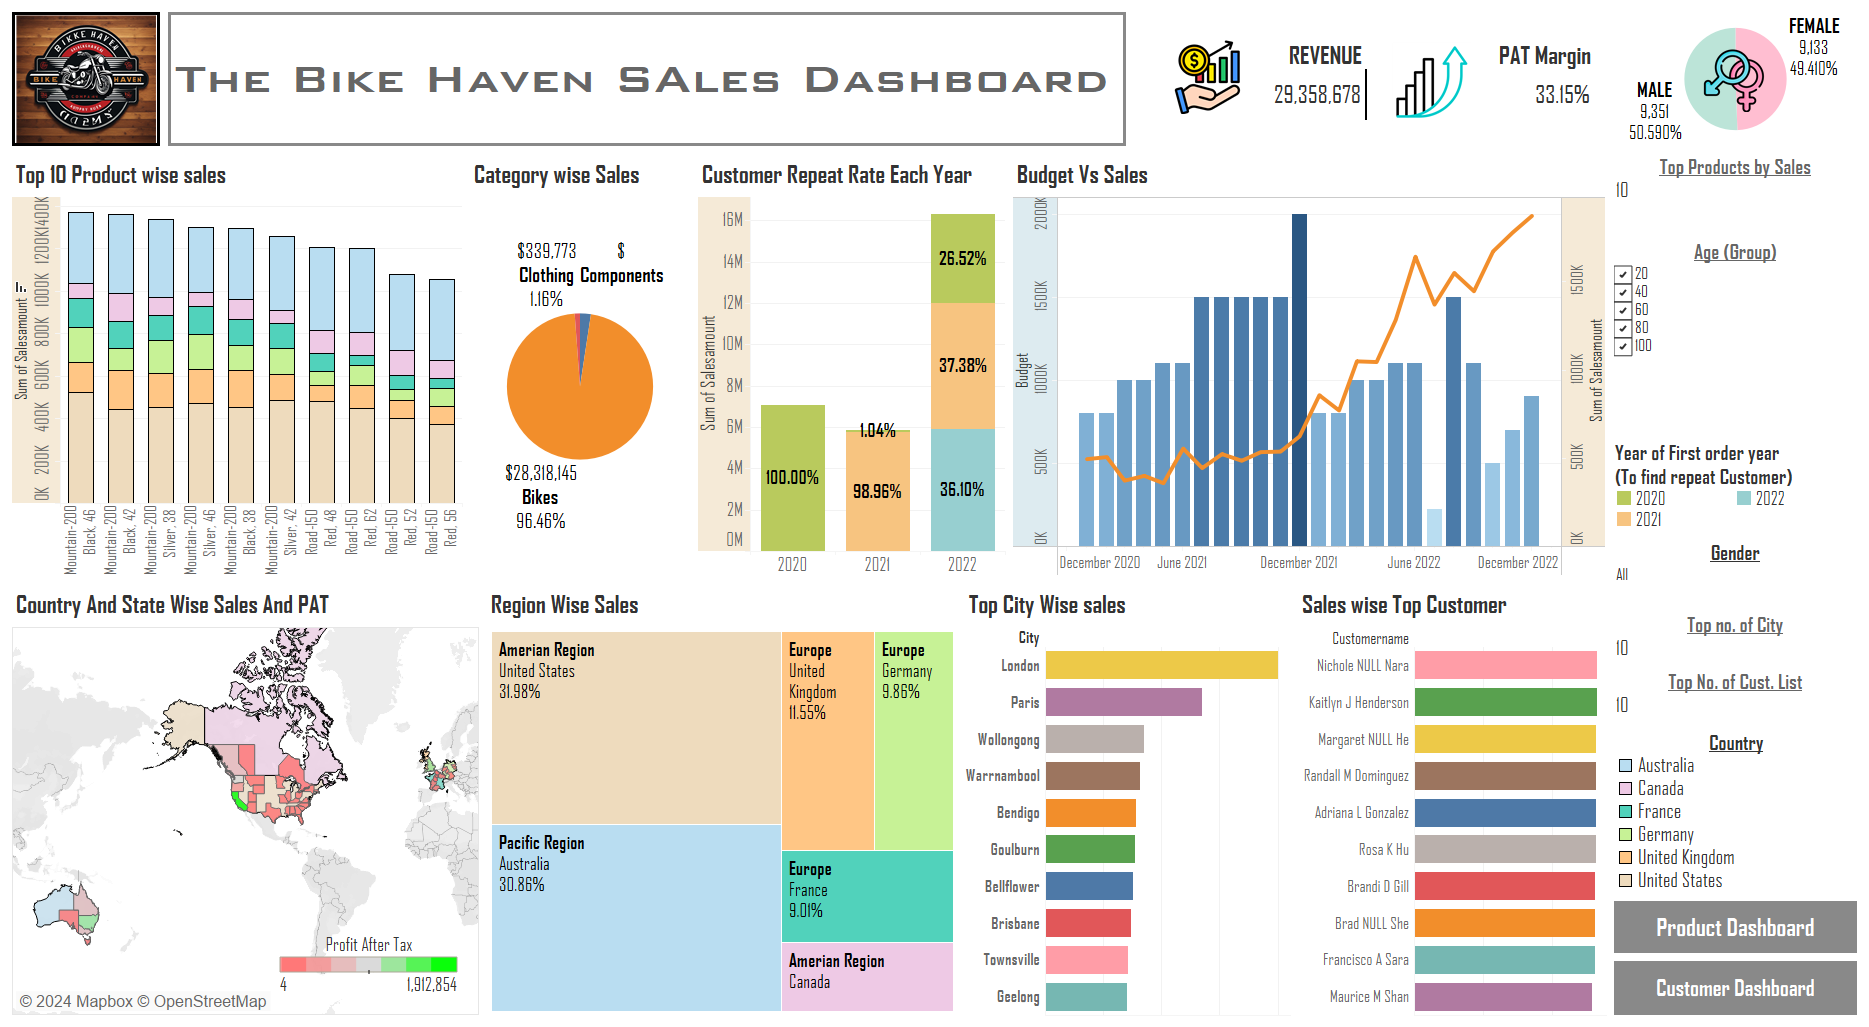

The page's visual inventory and layout, read from the dashboard file:
{"tool":"tableau","page":{"name":"Sales Dashboard","canvas":[1000,1000],"units":"permille","ordinal":2},"visuals":[{"type":"dashboard-object","box":[4.7,10,71.9,137.7]},{"type":"text","box":[76.6,10,566.3,137.7]},{"type":"worksheet","title":"Gender","mark":"Pie","box":[861.1,10,134.2,137.7]},{"type":"worksheet","title":"KPI(SALES)","mark":"Automatic","box":[661.8,22.4,198.6,116.9]},{"type":"image","param":"Image/Gender.png","box":[906.9,47.7,41.2,61.3]},{"type":"image","param":"Image/analytics.gif","box":[756,57.2,50.7,70.9]},{"type":"image","param":"Image/revenue.png","box":[642.3,59.7,57.2,72.1]},{"type":"worksheet","title":"Top 10 Product wise sales","mark":"Automatic","rows":["salesamount"],"cols":["productname"],"box":[4.7,147.6,244.8,416.9]},{"type":"worksheet","title":"Category wise Sales","mark":"Pie","box":[249.5,147.6,121.9,416.9]},{"type":"worksheet","title":"Customer Repeat Rate Each Year","mark":"Bar","rows":["salesamount"],"cols":["orderdate"],"box":[371.4,147.6,168.4,416.9]},{"type":"worksheet","title":"Budget Vs Sales","mark":"Automatic","rows":["Budget","salesamount"],"cols":["orderdate"],"box":[539.8,147.6,321.3,416.9]},{"type":"parameter","param":"[Parameters].[Parameter 1]","box":[861.1,147.6,134.2,82.3]},{"type":"filter","title":"Budget Vs Sales","param":"[federated.0kbmwvk0wkv6iw1gvr4tc1mcakxt].[none:Age (bin):ok]","box":[861.1,229.9,134.2,133.2]},{"type":"legend","title":"Customer Repeat Rate Each Year","param":"[federated.0kbmwvk0wkv6iw1gvr4tc1mcakxt].[yr:Calculation_1449596131179855874:ok]","box":[861.1,363.2,134.2,136.8]},{"type":"filter","title":"Budget Vs Sales","param":"[federated.0kbmwvk0wkv6iw1gvr4tc1mcakxt].[none:gender:nk]","box":[861.1,499.9,134.2,64.7]},{"type":"worksheet","title":"Country And State Wise Sales And PAT","mark":"Multipolygon","box":[4.7,564.6,253.9,425.5]},{"type":"worksheet","title":"Region Wise Sales","mark":"Automatic","box":[258.6,564.6,255.7,425.5]},{"type":"worksheet","title":"Top City Wise sales","mark":"Automatic","rows":["city"],"cols":["salesamount"],"box":[514.3,564.6,178,425.5]},{"type":"worksheet","title":"Sales wise Top Customer ","mark":"Automatic","rows":["customername"],"cols":["salesamount"],"box":[692.2,564.6,168.8,425.5]},{"type":"parameter","param":"[Parameters].[Parameter 3]","box":[861.1,564.6,134.2,82.2]},{"type":"parameter","param":"[Parameters].[Parameter 2]","box":[861.1,646.8,134.2,84.5]},{"type":"legend","title":"Top 10 Product wise sales","param":"[federated.0kbmwvk0wkv6iw1gvr4tc1mcakxt].[none:Country/Region:nk]","box":[861.1,731.3,134.2,143]},{"type":"dashboard-object","box":[861.1,874.3,134.2,55.6]},{"type":"legend","title":"Country And State Wise Sales And PAT","param":"[federated.0kbmwvk0wkv6iw1gvr4tc1mcakxt].[sum:Calculation_1449596131087171584:qk","box":[147.7,905.6,99.5,85.7]},{"type":"dashboard-object","box":[861.1,929.9,134.2,60.2]}]}

Visuals, with their boxes on the dashboard's canvas, which has no fixed pixel size, in thousandths of its width and height (x1, y1, x2, y2). These are canvas units, not pixel positions in the 1869x1027 screenshot, which may show the page scaled, cropped or inside an application window:
dashboard-object: (x1=5, y1=10, x2=77, y2=148)
text: (x1=77, y1=10, x2=643, y2=148)
"Gender" worksheet (Pie marks): (x1=861, y1=10, x2=995, y2=148)
"KPI(SALES)" worksheet: (x1=662, y1=22, x2=860, y2=139)
image: (x1=907, y1=48, x2=948, y2=109)
image: (x1=756, y1=57, x2=807, y2=128)
image: (x1=642, y1=60, x2=700, y2=132)
"Top 10 Product wise sales" worksheet: (x1=5, y1=148, x2=250, y2=564)
"Category wise Sales" worksheet (Pie marks): (x1=250, y1=148, x2=371, y2=564)
"Customer Repeat Rate Each Year" worksheet (Bar marks): (x1=371, y1=148, x2=540, y2=564)
"Budget Vs Sales" worksheet: (x1=540, y1=148, x2=861, y2=564)
parameter: (x1=861, y1=148, x2=995, y2=230)
"Budget Vs Sales" filter: (x1=861, y1=230, x2=995, y2=363)
"Customer Repeat Rate Each Year" legend: (x1=861, y1=363, x2=995, y2=500)
"Budget Vs Sales" filter: (x1=861, y1=500, x2=995, y2=565)
"Country And State Wise Sales And PAT" worksheet (Multipolygon marks): (x1=5, y1=565, x2=259, y2=990)
"Region Wise Sales" worksheet: (x1=259, y1=565, x2=514, y2=990)
"Top City Wise sales" worksheet: (x1=514, y1=565, x2=692, y2=990)
"Sales wise Top Customer " worksheet: (x1=692, y1=565, x2=861, y2=990)
parameter: (x1=861, y1=565, x2=995, y2=647)
parameter: (x1=861, y1=647, x2=995, y2=731)
"Top 10 Product wise sales" legend: (x1=861, y1=731, x2=995, y2=874)
dashboard-object: (x1=861, y1=874, x2=995, y2=930)
"Country And State Wise Sales And PAT" legend: (x1=148, y1=906, x2=247, y2=991)
dashboard-object: (x1=861, y1=930, x2=995, y2=990)
